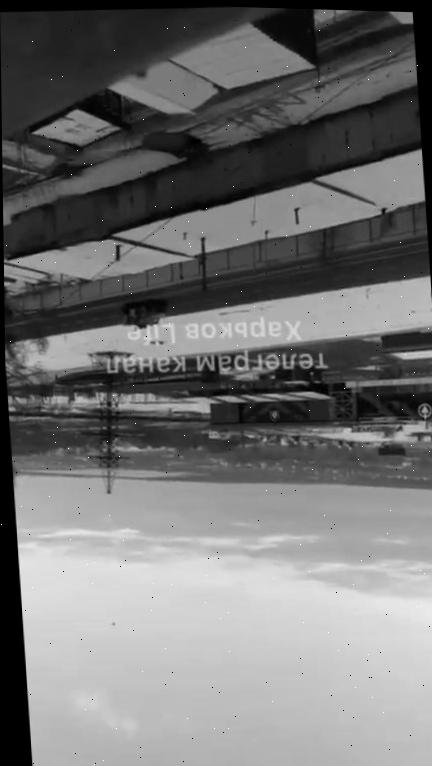armored_car: (120, 296, 169, 328)
